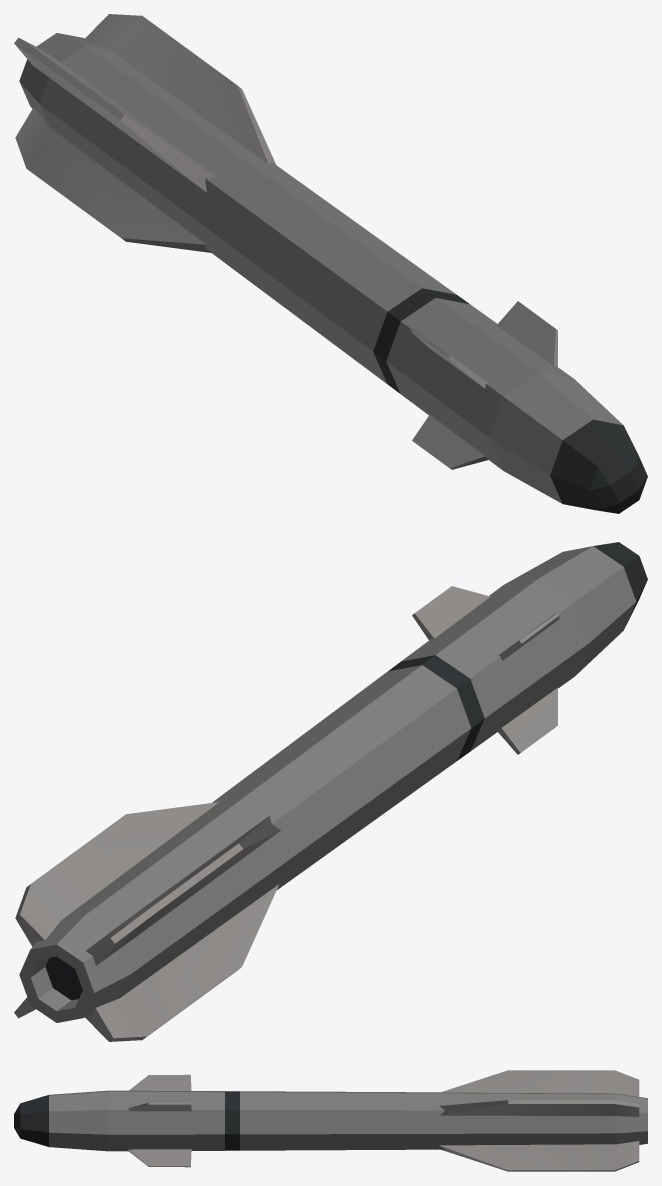
File: SM_Prop_Missle_01.glb
3 renders of one model, top to bottom at view 1: azimuth 30°, elevation 25°; view 2: azimuth 150°, elevation 25°; view 3: azimuth 270°, elevation 25°, orthographic. The views are drawn at different scales.
Visible parts, largest first — view 1: SM_Prop_Missle_01; view 2: SM_Prop_Missle_01; view 3: SM_Prop_Missle_01.
Boxes of the visible parts, bbox=[...] form: SM_Prop_Missle_01: bbox=[14, 14, 647, 513]; SM_Prop_Missle_01: bbox=[14, 542, 647, 1041]; SM_Prop_Missle_01: bbox=[14, 1070, 647, 1171].
Bounding box in the file's own units: 0.1675 × 0.1675 × 1.34.
Materials: 1 (1 with a texture image).
